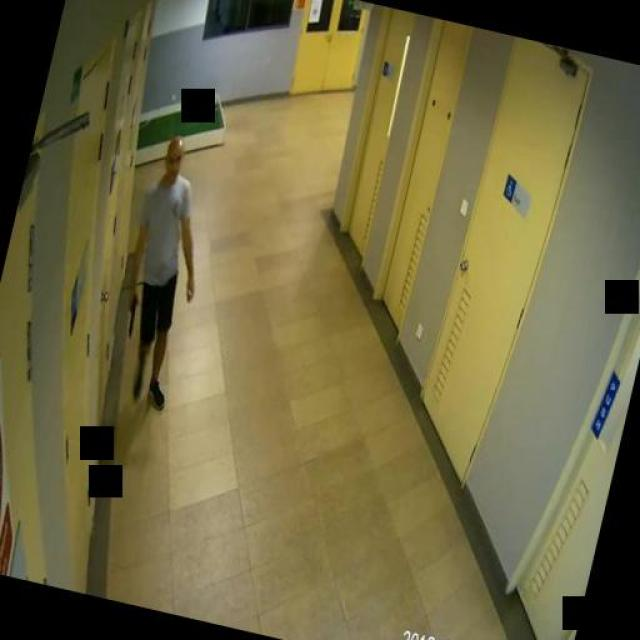gun: (120, 293, 140, 335)
